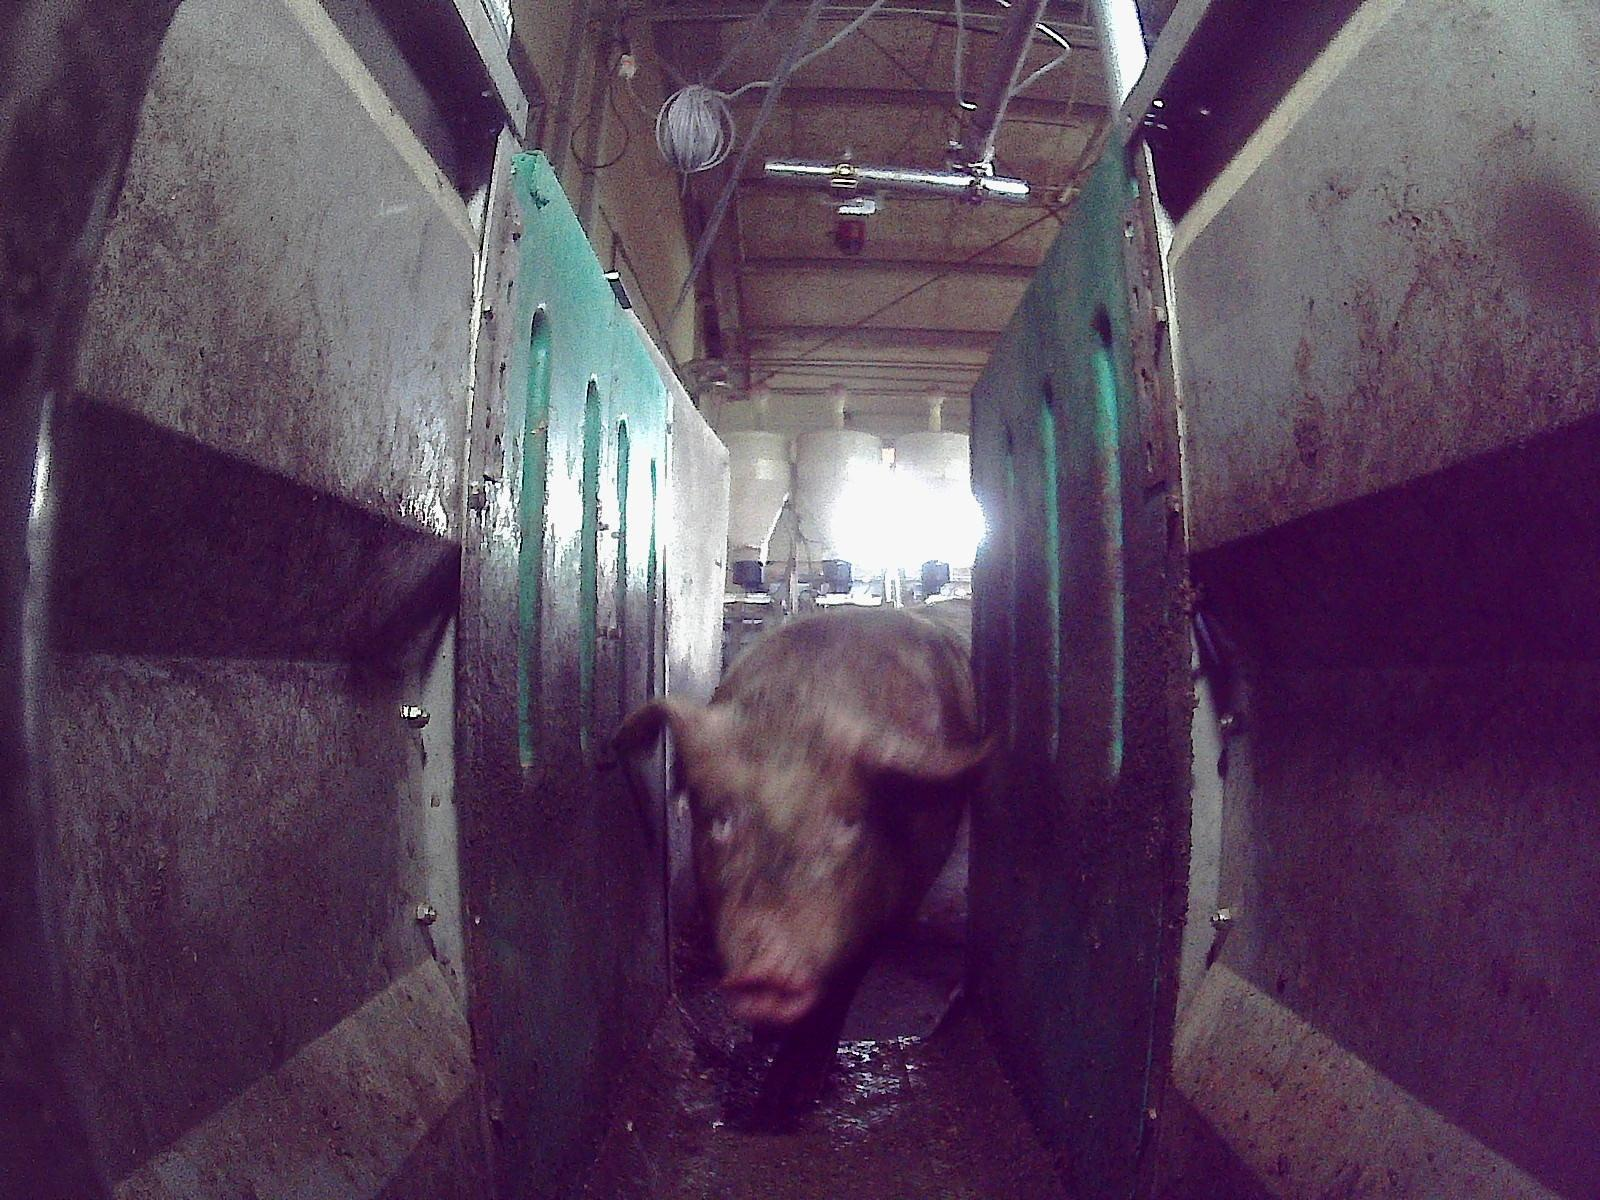Face: (684, 732, 870, 1020)
